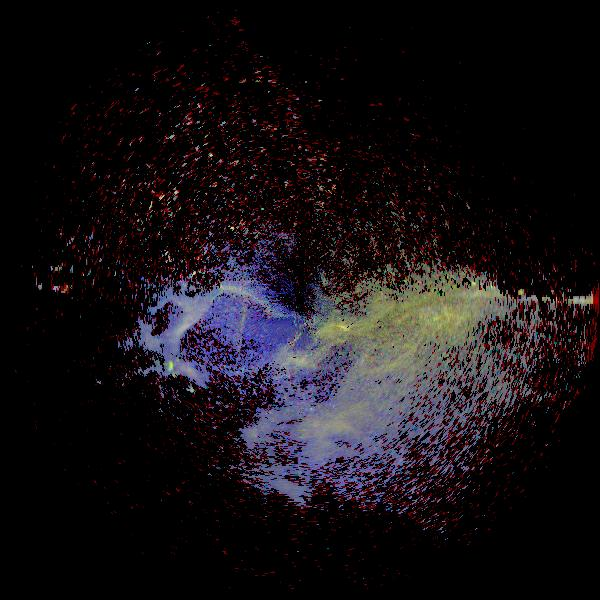roost: (186, 384, 198, 396)
